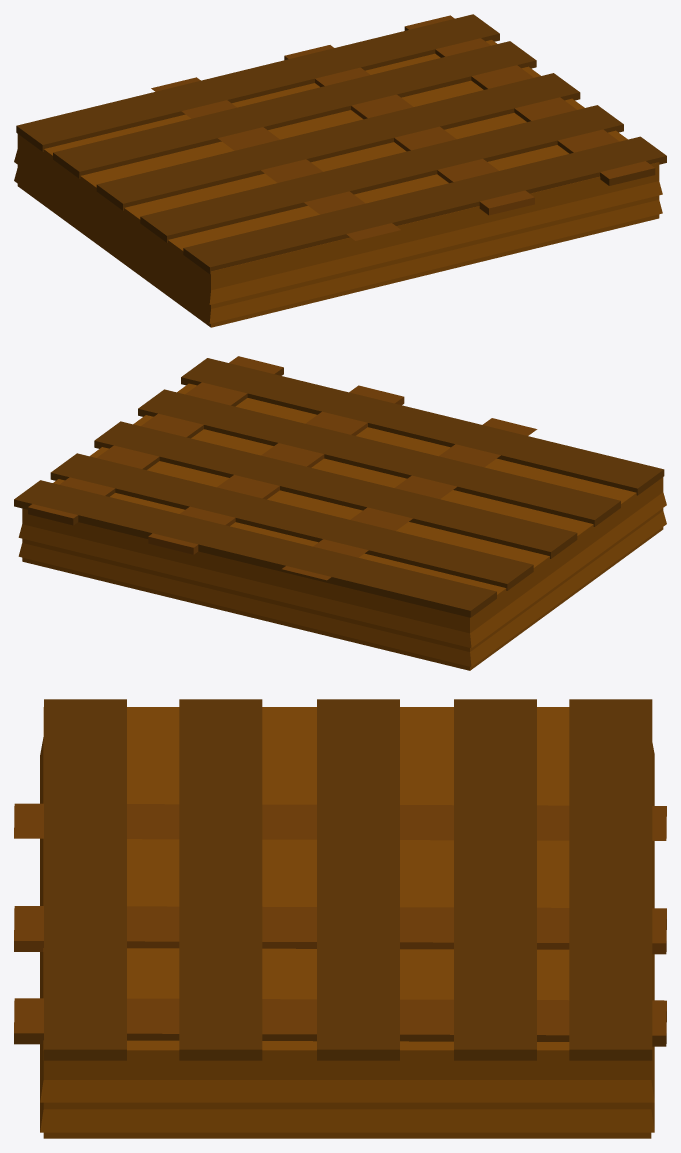
File: gate down.fbx
The picture shows the model from 3 angles, top to bottom: view 1: azimuth 30°, elevation 25°; view 2: azimuth 150°, elevation 25°; view 3: azimuth 270°, elevation 25°; orthographic projection. The views are drawn at different scales.
Parts seen in each view (by area): view 1: Plane.004, Cube, Plane.001, Plane.005; view 2: Plane.004, Cube, Plane.001, Plane.005; view 3: Plane.004, Cube, Plane.001, Plane.005.
Boxes of the visible parts, bbox=[...] form: Plane.004: bbox=[16, 14, 666, 274]; Cube: bbox=[14, 40, 662, 327]; Plane.001: bbox=[151, 45, 534, 240]; Plane.005: bbox=[404, 15, 655, 185]; Plane.004: bbox=[14, 358, 664, 617]; Cube: bbox=[18, 383, 666, 670]; Plane.001: bbox=[148, 385, 537, 580]; Plane.005: bbox=[28, 356, 283, 525]; Plane.004: bbox=[44, 699, 652, 1060]; Cube: bbox=[40, 707, 654, 1138]; Plane.001: bbox=[14, 803, 666, 954]; Plane.005: bbox=[14, 998, 666, 1046].
Bounding box in the file's own units: 1708 × 215 × 1341.
